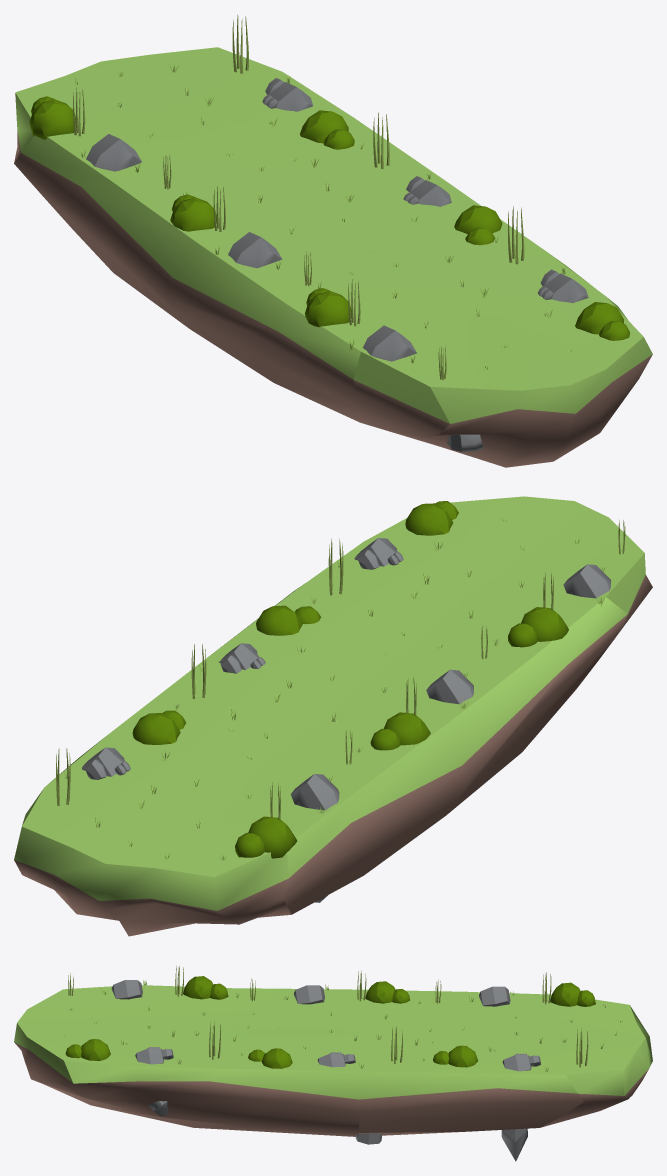
Rendered from long_island_spring_3.fbx.
The picture shows the model from 3 angles, top to bottom: view 1: azimuth 30°, elevation 25°; view 2: azimuth 150°, elevation 25°; view 3: azimuth 270°, elevation 25°; orthographic projection. The views are drawn at different scales.
Parts seen in each view (by area): view 1: Island_Long_Spring_3.001; view 2: Island_Long_Spring_3.001; view 3: Island_Long_Spring_3.001.
Part boxes in pixels (left/top/right/bottom): Island_Long_Spring_3.001: left=14, top=14, right=652, bottom=467; Island_Long_Spring_3.001: left=14, top=496, right=652, bottom=936; Island_Long_Spring_3.001: left=14, top=966, right=652, bottom=1161.
Bounding box in the file's own units: 957 × 641 × 2667.
